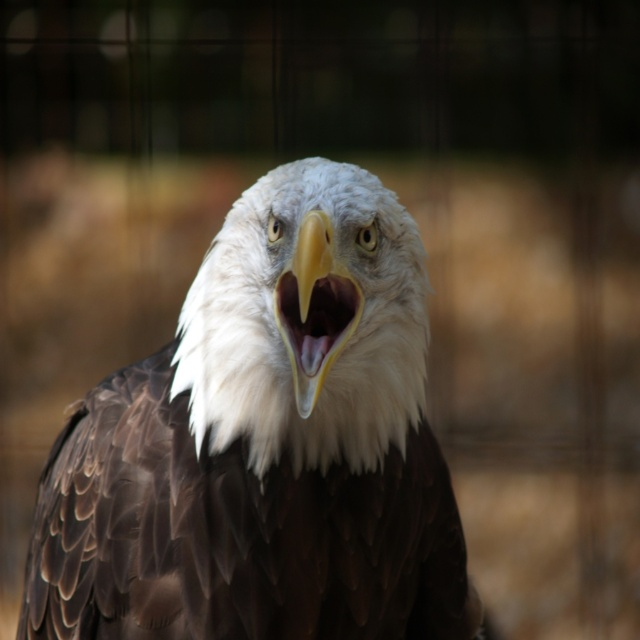Eagle: (15, 155, 490, 639)
